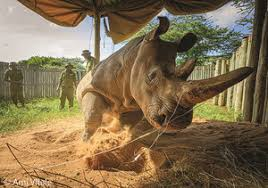Rhinoceros: (58, 13, 255, 152)
